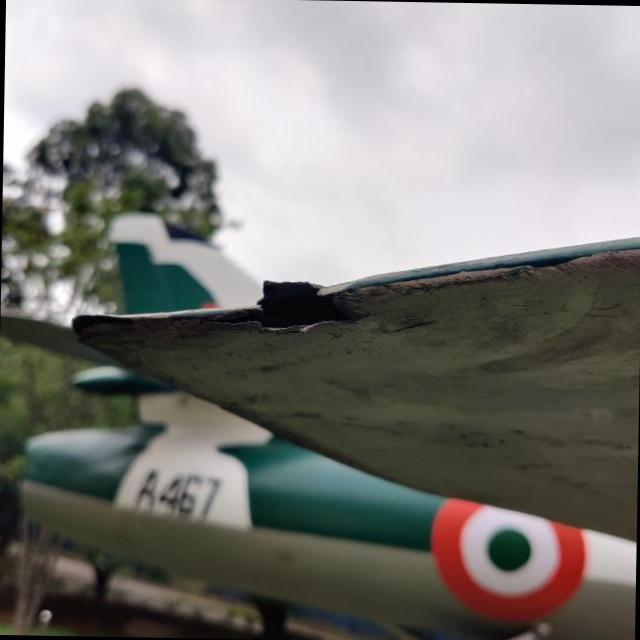Crack: (258, 281, 347, 328)
